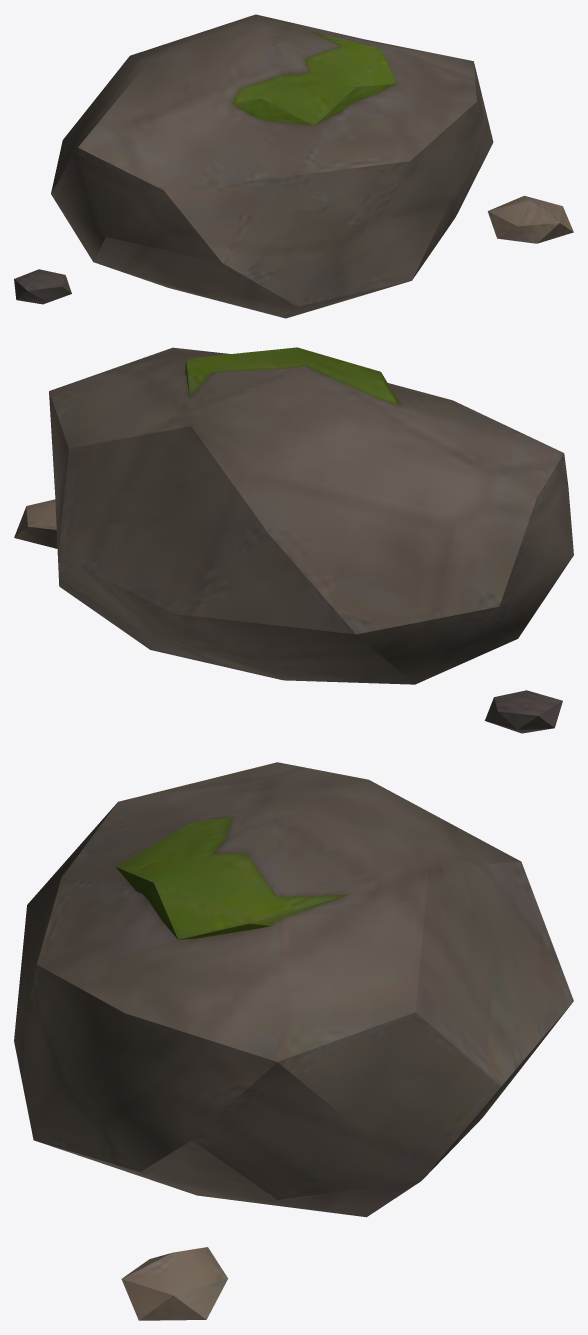
The model's file is bg_wasteland_rock_1_lod1.glb.
3 renders of one model, top to bottom at view 1: azimuth 30°, elevation 25°; view 2: azimuth 150°, elevation 25°; view 3: azimuth 270°, elevation 25°, orthographic. The views are drawn at different scales.
Visible parts, largest first — view 1: body; view 2: body; view 3: body.
Boxes of the visible parts, x1,y1,x2,y2 form: body: (14, 14, 573, 318); body: (14, 347, 573, 733); body: (14, 762, 573, 1320).
Bounding box in the file's own units: 2.46 × 1.2 × 1.66.
Materials: 1 (1 with a texture image).
